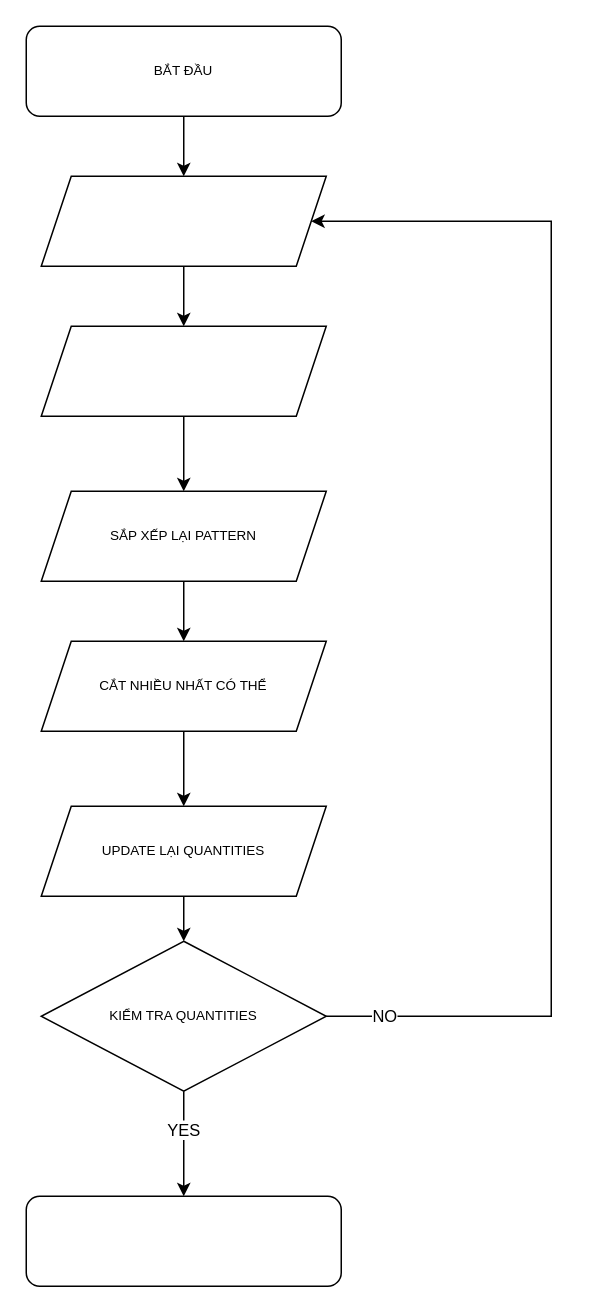
Image size: 590x1313. Some labels were removed from this diagram. Each missing label, with the centre of its shape:
"CHỌN NHỮNG PATTERN CÓ SỐ DƯ ÍT NHẤT" belongs at point 183,370.
"KẾT THÚC" belongs at point 183,1240.
"TẠO TẤT CẢ CÁC PATTERN KHẢ THI" belongs at point 183,220.
